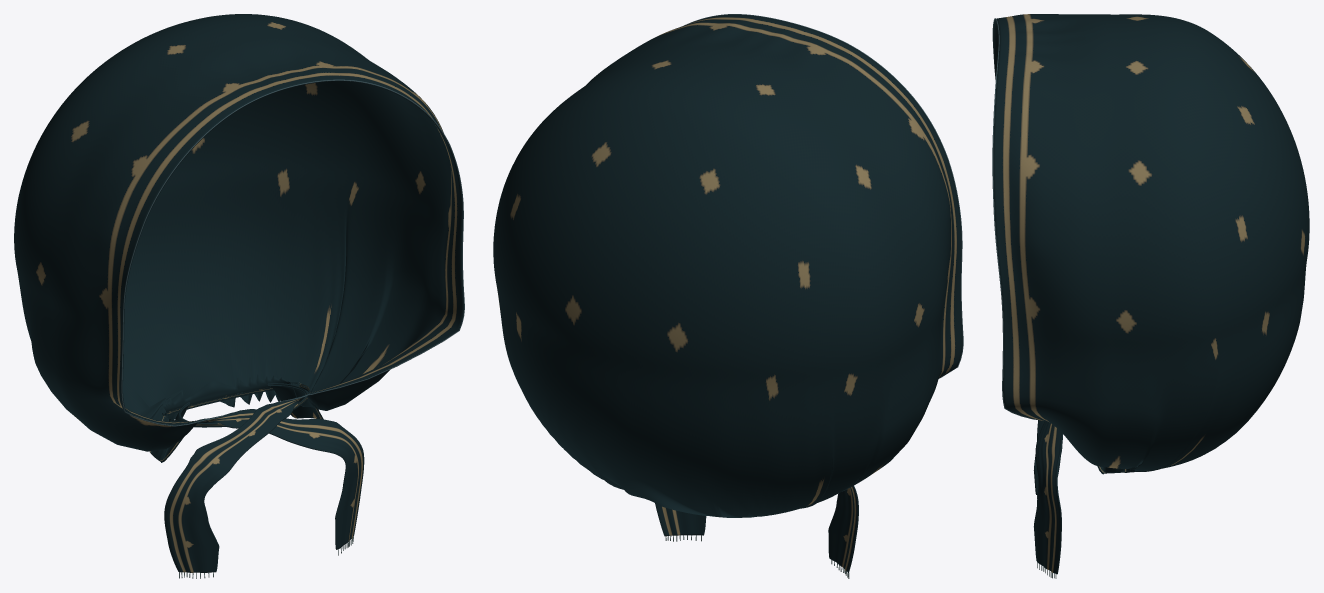
The model's file is Masculine-middle-part-pashmina251-headgear.glb.
3 views of the same model, side by side, from view 1: azimuth 30°, elevation 25°; view 2: azimuth 150°, elevation 25°; view 3: azimuth 270°, elevation 25° (orthographic). The views are drawn at different scales.
Parts seen in each view (by area): view 1: 226 headgear / Headwear / continuous woven pashmina239.002, 226 headgear / Headwear / face edge239.002; view 2: 226 headgear / Headwear / continuous woven pashmina239.002, 226 headgear / Headwear / face edge239.002; view 3: 226 headgear / Headwear / continuous woven pashmina239.002, 226 headgear / Headwear / face edge239.002.
Boxes of the visible parts, x1,y1,x2,y2 form: 226 headgear / Headwear / continuous woven pashmina239.002: (14, 14, 463, 572); 226 headgear / Headwear / face edge239.002: (121, 79, 464, 426); 226 headgear / Headwear / continuous woven pashmina239.002: (493, 14, 962, 572); 226 headgear / Headwear / face edge239.002: (684, 14, 963, 378); 226 headgear / Headwear / continuous woven pashmina239.002: (993, 14, 1309, 574); 226 headgear / Headwear / face edge239.002: (992, 18, 1037, 419).
Size of the model in its own units: 1.1 by 1.39 by 0.7949.
3 materials, 1 textured.
